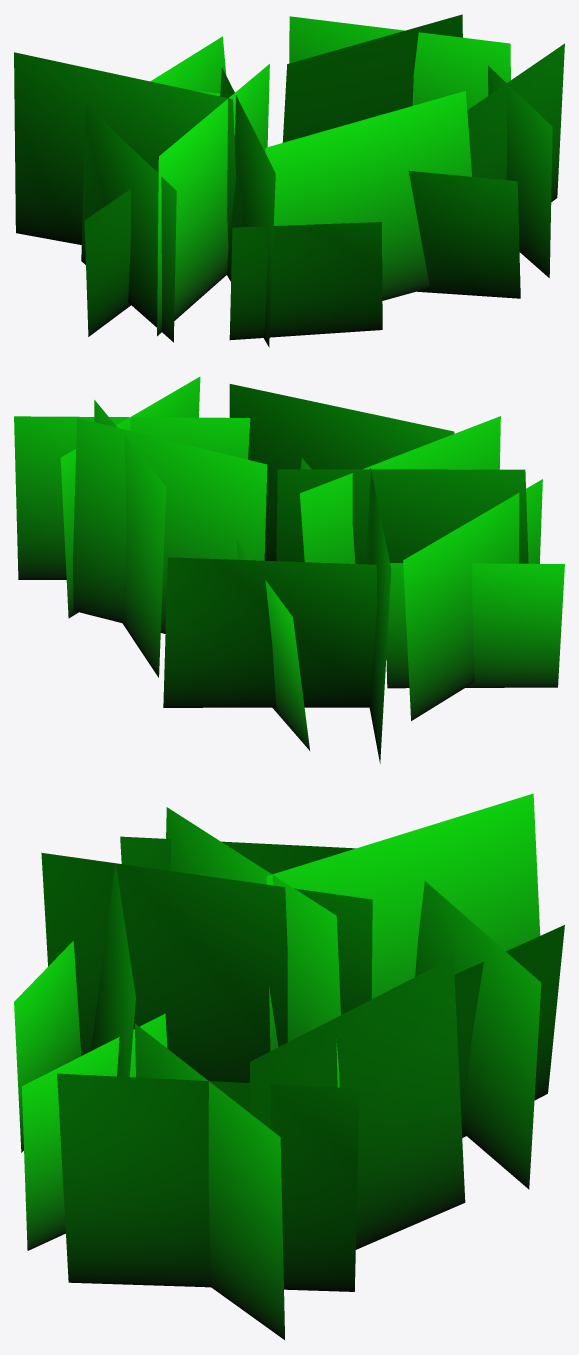
The model's file is Grass_Size08.fbx.
3 renders of one model, top to bottom at view 1: azimuth 30°, elevation 25°; view 2: azimuth 150°, elevation 25°; view 3: azimuth 270°, elevation 25°, orthographic. The views are drawn at different scales.
Parts seen in each view (by area): view 1: PP_grass_04; view 2: PP_grass_04; view 3: PP_grass_04.
Boxes of the visible parts, x1,y1,x2,y2 form: PP_grass_04: (14, 14, 564, 347); PP_grass_04: (14, 376, 564, 763); PP_grass_04: (14, 793, 564, 1339).
Bounding box in the file's own units: 114 × 41.51 × 80.32.
